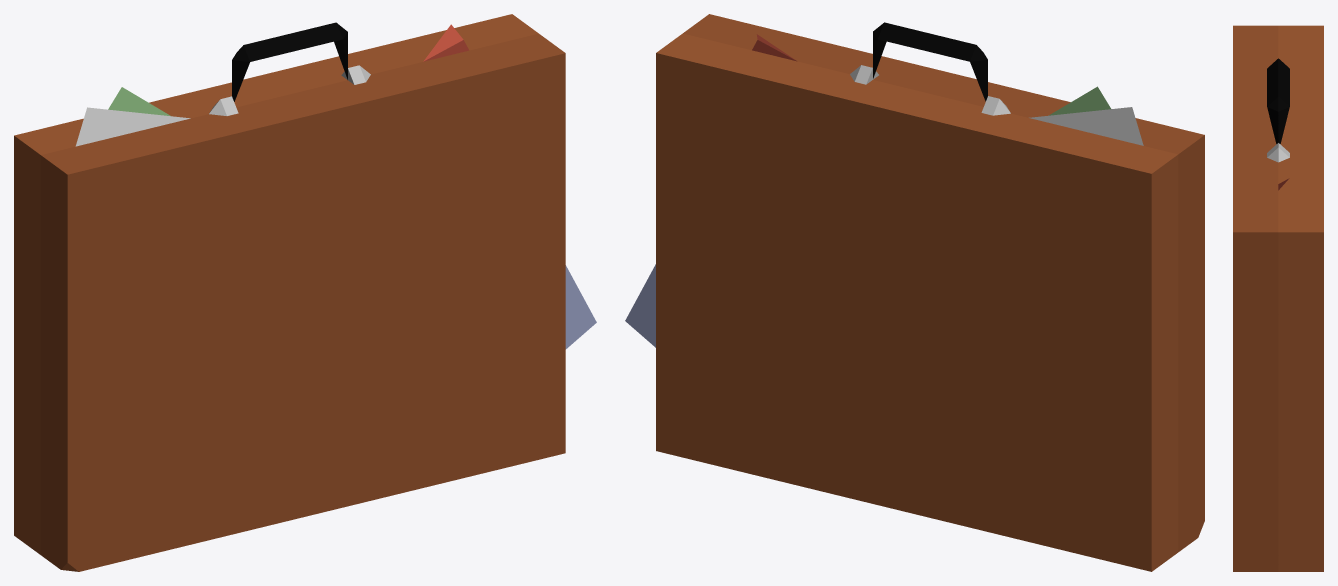
The model's file is briefcase_with_some_documents_out.glb.
3 renders of one model, left to right at view 1: azimuth 30°, elevation 25°; view 2: azimuth 150°, elevation 25°; view 3: azimuth 270°, elevation 25°, orthographic. The views are drawn at different scales.
Parts seen in each view (by area): view 1: Object_5, Object_4, Object_11, Object_7, Object_9, Object_8, Object_6, Object_17; view 2: Object_4, Object_5, Object_11, Object_7, Object_9, Object_8, Object_17; view 3: Object_5, Object_4, Object_11, Object_17.
Part boxes in pixels (x1,y1,x2,y2): Object_5: (40, 33, 565, 571); Object_4: (14, 14, 538, 554); Object_11: (232, 22, 347, 101); Object_7: (75, 107, 190, 146); Object_9: (565, 265, 596, 349); Object_8: (108, 87, 170, 116); Object_6: (423, 24, 469, 61); Object_17: (209, 65, 370, 115); Object_4: (656, 33, 1178, 571); Object_5: (683, 14, 1204, 551); Object_11: (873, 22, 987, 101); Object_7: (1029, 107, 1143, 145); Object_9: (625, 264, 655, 347); Object_8: (1049, 86, 1110, 115); Object_17: (850, 65, 1010, 115); Object_5: (1233, 25, 1278, 571); Object_4: (1278, 25, 1323, 571); Object_11: (1267, 58, 1289, 143); Object_17: (1267, 143, 1289, 162).
Bounding box in the file's own units: 0.48 × 0.385 × 0.08.
